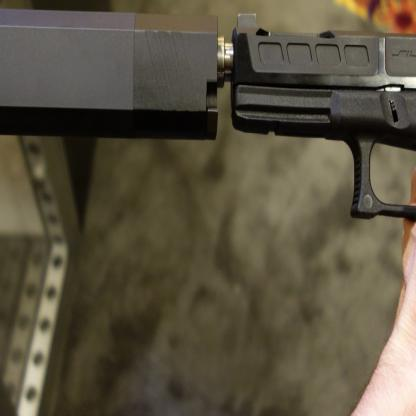gun: (226, 0, 415, 415)
